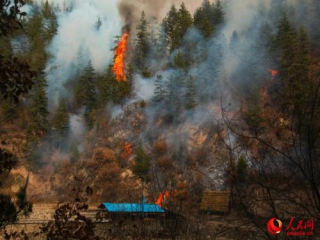fire: (108, 30, 130, 86), (154, 186, 173, 207), (120, 140, 139, 158)
smoke: (161, 21, 297, 140), (39, 7, 111, 97)
